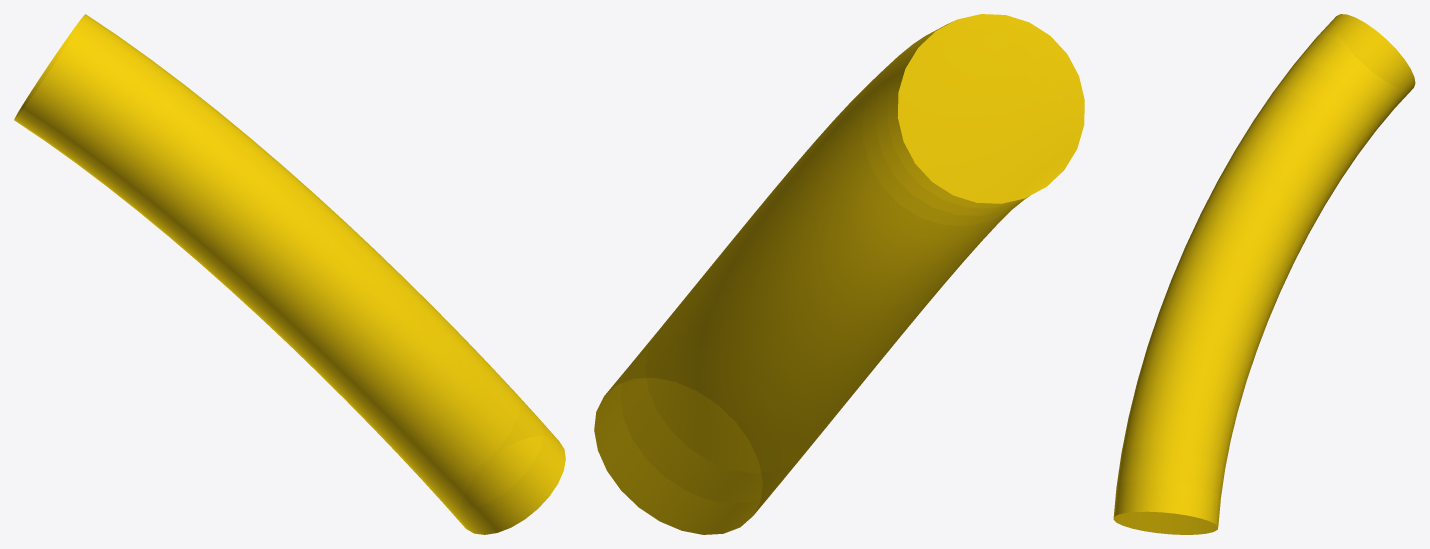
The model's file is Event_421364160_track_49.fbx.
3 views of the same model, side by side, from view 1: azimuth 30°, elevation 25°; view 2: azimuth 150°, elevation 25°; view 3: azimuth 270°, elevation 25° (orthographic). The views are drawn at different scales.
Visible parts, largest first — view 1: Model; view 2: Model; view 3: Model.
Part boxes in pixels (bbox=[...]): Model: bbox=[14, 14, 565, 534]; Model: bbox=[594, 14, 1084, 534]; Model: bbox=[1113, 14, 1415, 534].
Size of the model in its own units: 0.1534 by 0.1698 by 0.1144.
